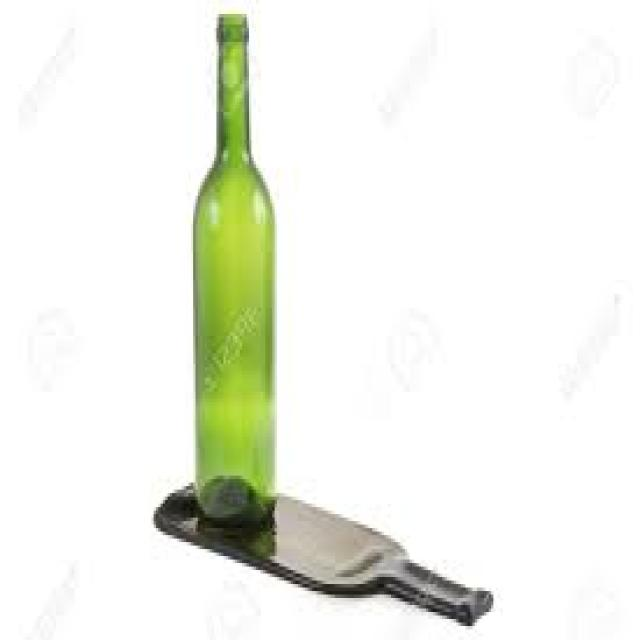Anorganik: (151, 472, 491, 619), (188, 7, 274, 528)
